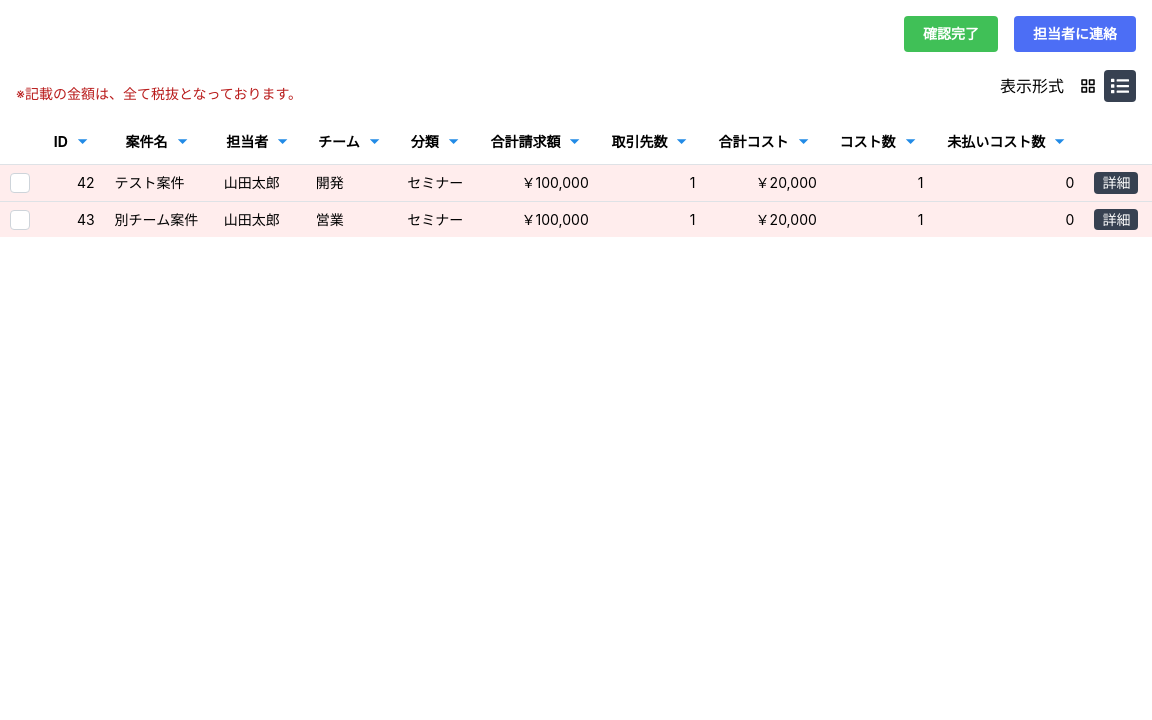
Test case: AccountingMatterList › 担当者に連絡 › チェックした案件に、入力したメッセージを送信する
This screenshot has width=1152, height=720.
Click the checkbox named "案件チェック" next to "42": {"x": 20, "y": 183} [10,173,30,193]
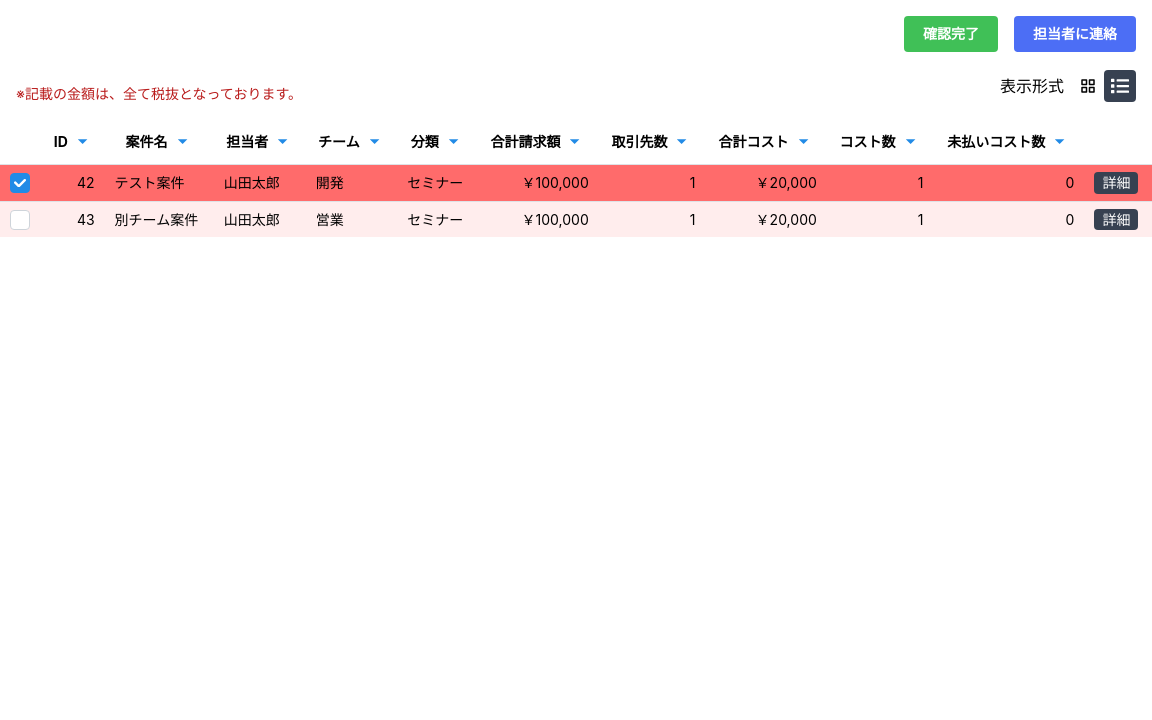
Click the button "担当者に連絡": {"x": 1075, "y": 34} [1014,16,1136,52]
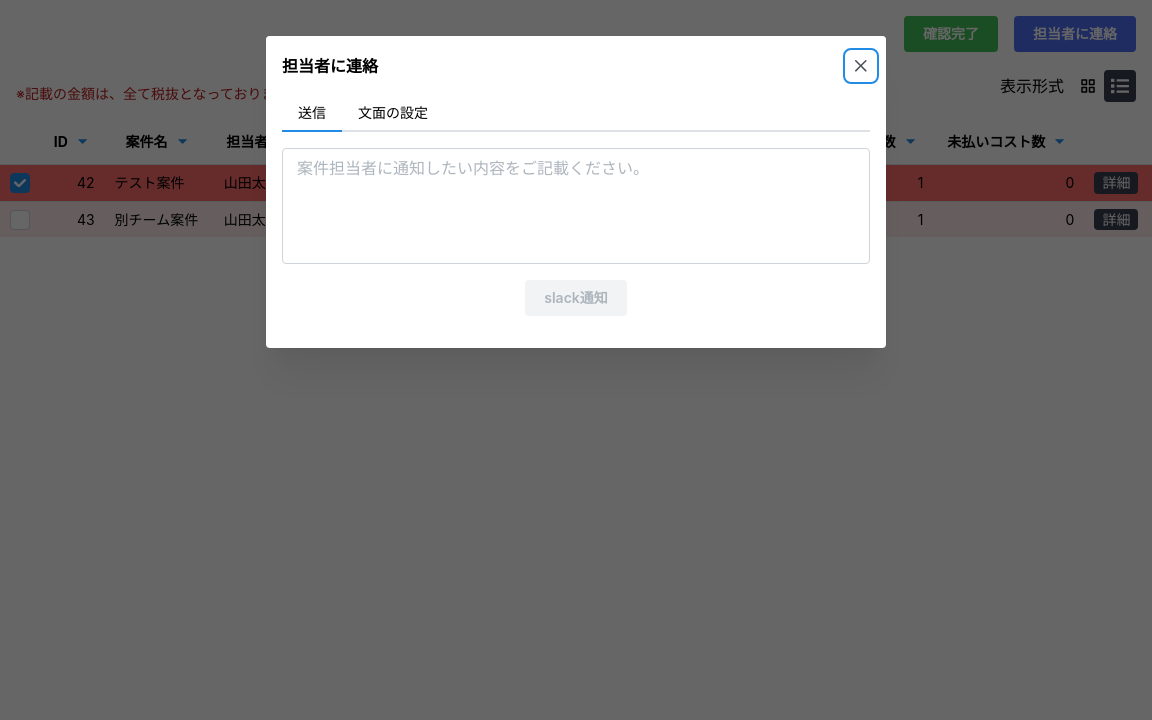
In the text box with placeholder "案件担当者に通知したい内容をご記載ください。": {"x": 576, "y": 206} [282,148,870,264], type "確認してください"
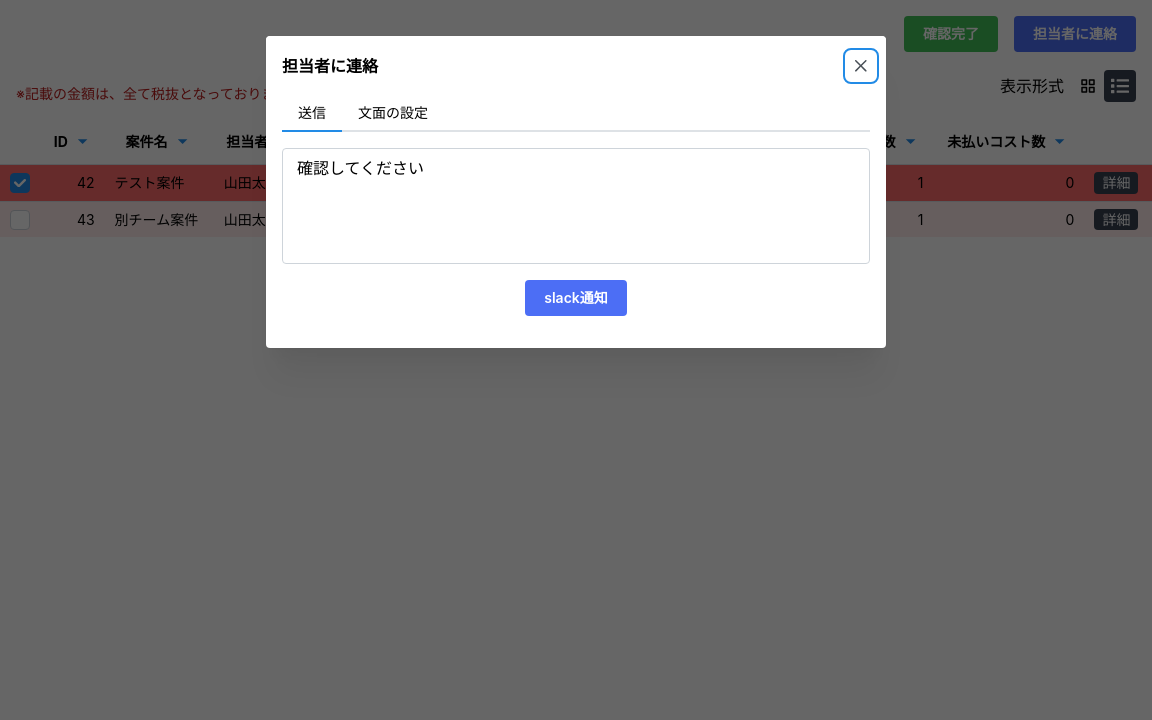
Click the button "slack通知": {"x": 576, "y": 298} [525,280,627,316]
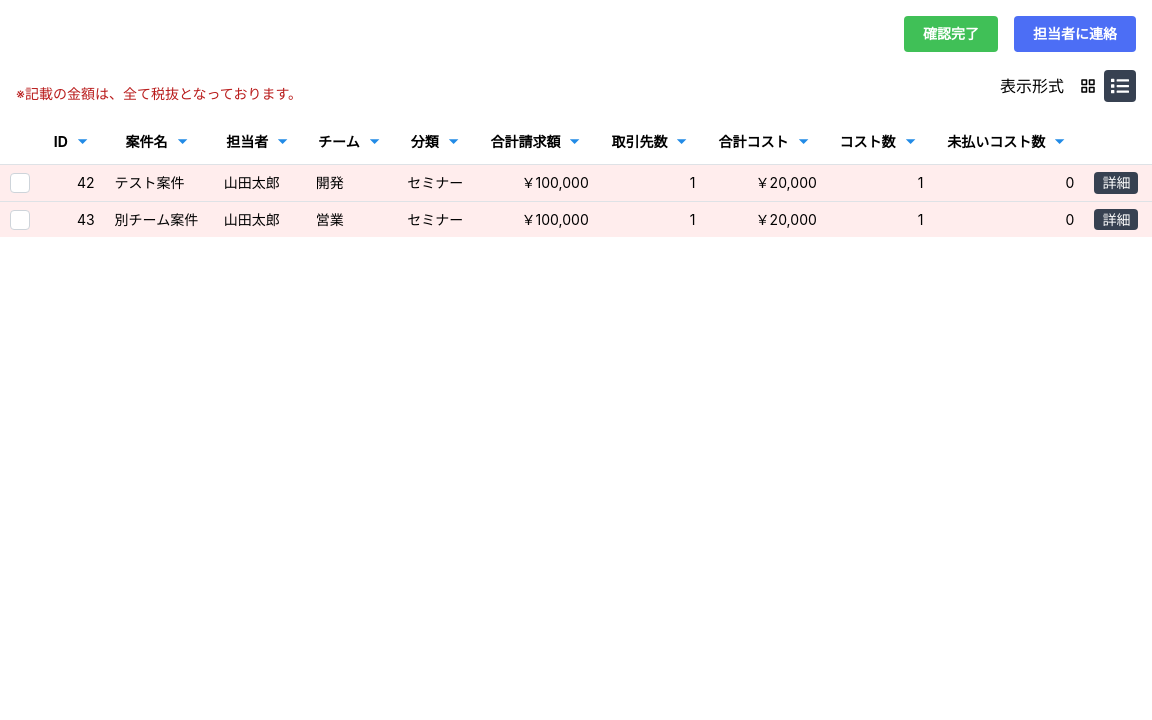
Expected: the dialog is gone
